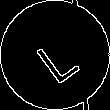L_NW: (28, 26, 82, 84)
